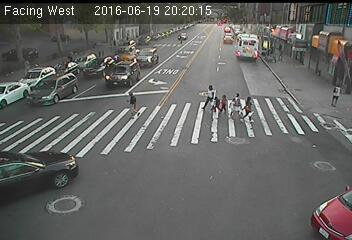neg: (272, 54, 300, 91), (49, 128, 72, 159), (240, 131, 263, 161), (171, 154, 192, 183), (138, 150, 158, 177), (41, 76, 60, 102), (189, 7, 206, 29), (128, 7, 144, 29), (83, 14, 99, 36), (46, 34, 62, 56), (263, 99, 278, 119), (239, 34, 253, 53), (175, 67, 188, 85), (89, 153, 102, 170), (221, 52, 232, 67)
pos: (121, 88, 144, 120), (325, 81, 347, 110), (227, 88, 249, 116), (197, 80, 218, 107), (237, 94, 257, 121), (210, 93, 226, 113), (218, 93, 231, 110)
